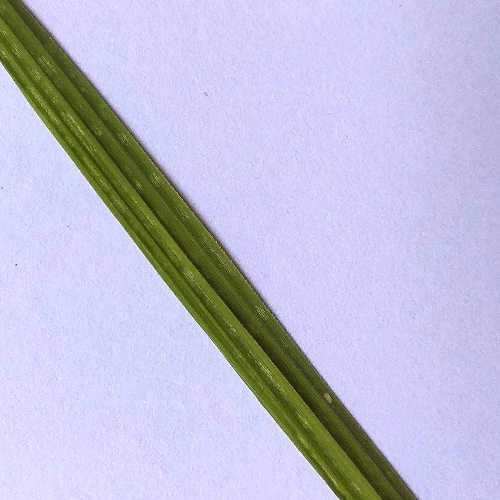Busuk Leher: (320, 385, 339, 406)
